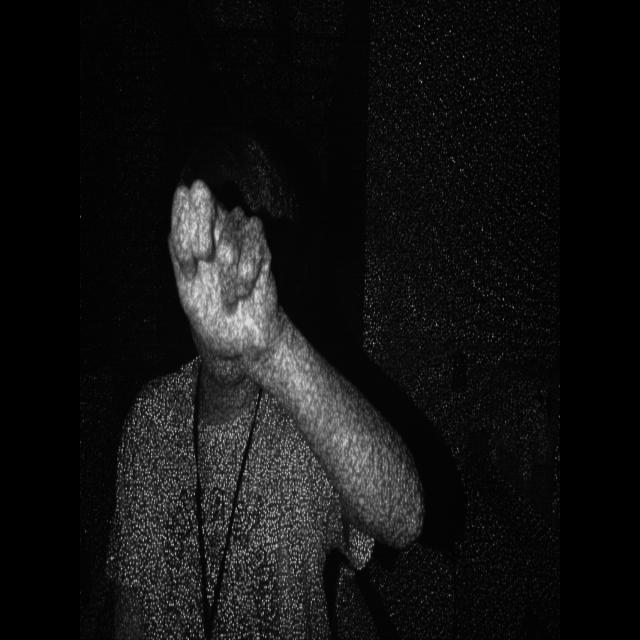N: (162, 166, 298, 392)
